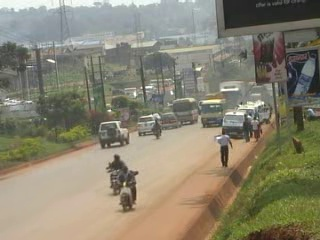Car: (97, 119, 132, 150), (133, 112, 157, 135), (158, 112, 179, 131)
Motorcycle: (117, 169, 139, 212), (106, 154, 128, 196), (148, 121, 164, 141)
